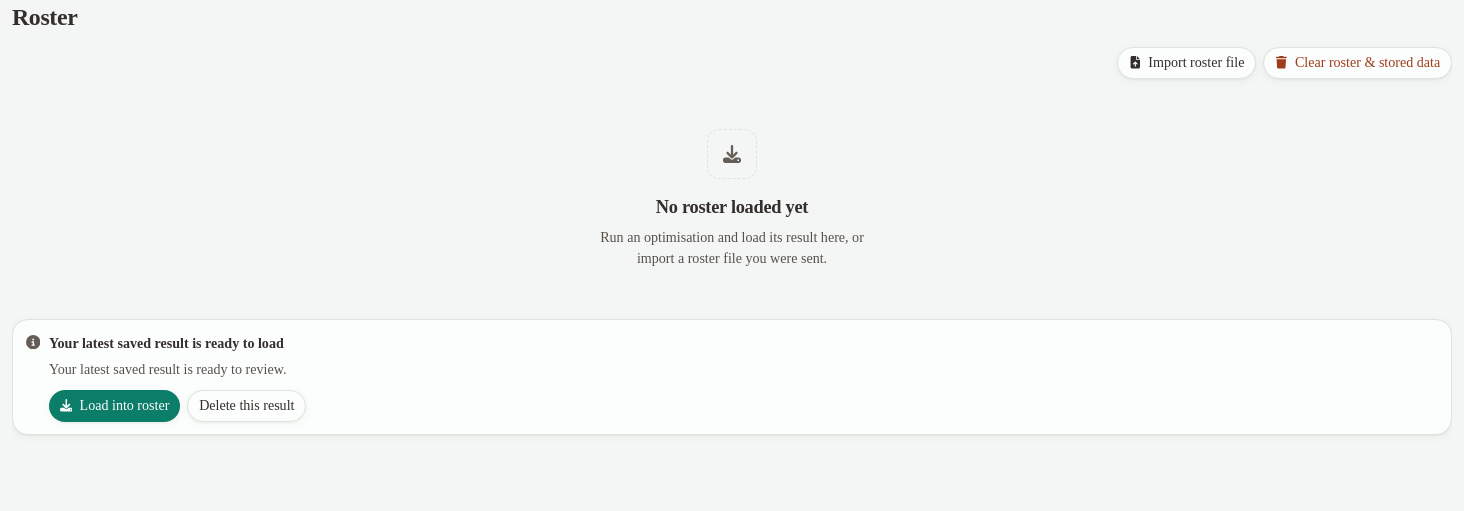
Scenario: RosterSection — durable Load authority › refuses to Load when a same-job retry replaced the displayed version
Click the button with test id "roster-candidate-load": (115,406) [49,390,180,422]
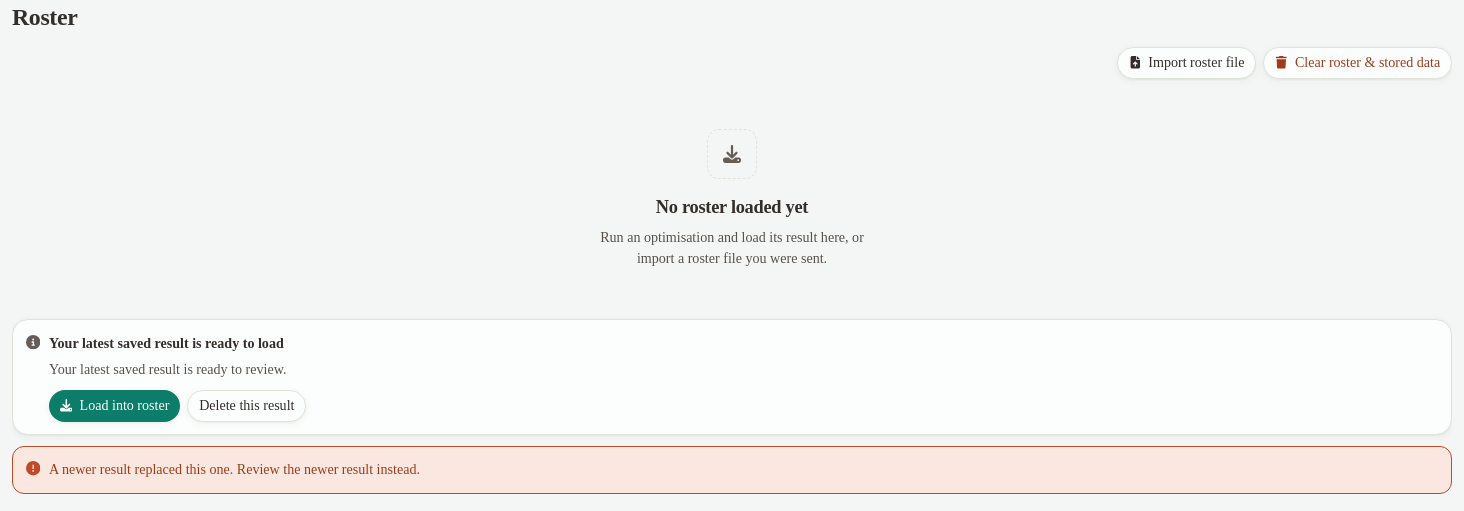
Check: the message "A newer result replaced this one. Review the newer result instead." is shown, box [12,446,1452,494]
